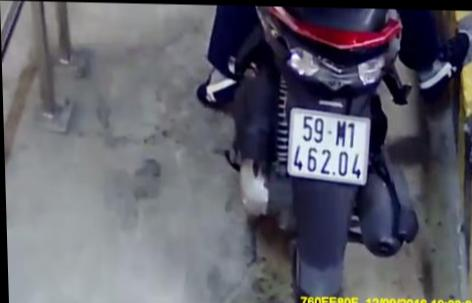LP: (284, 103, 372, 184)
